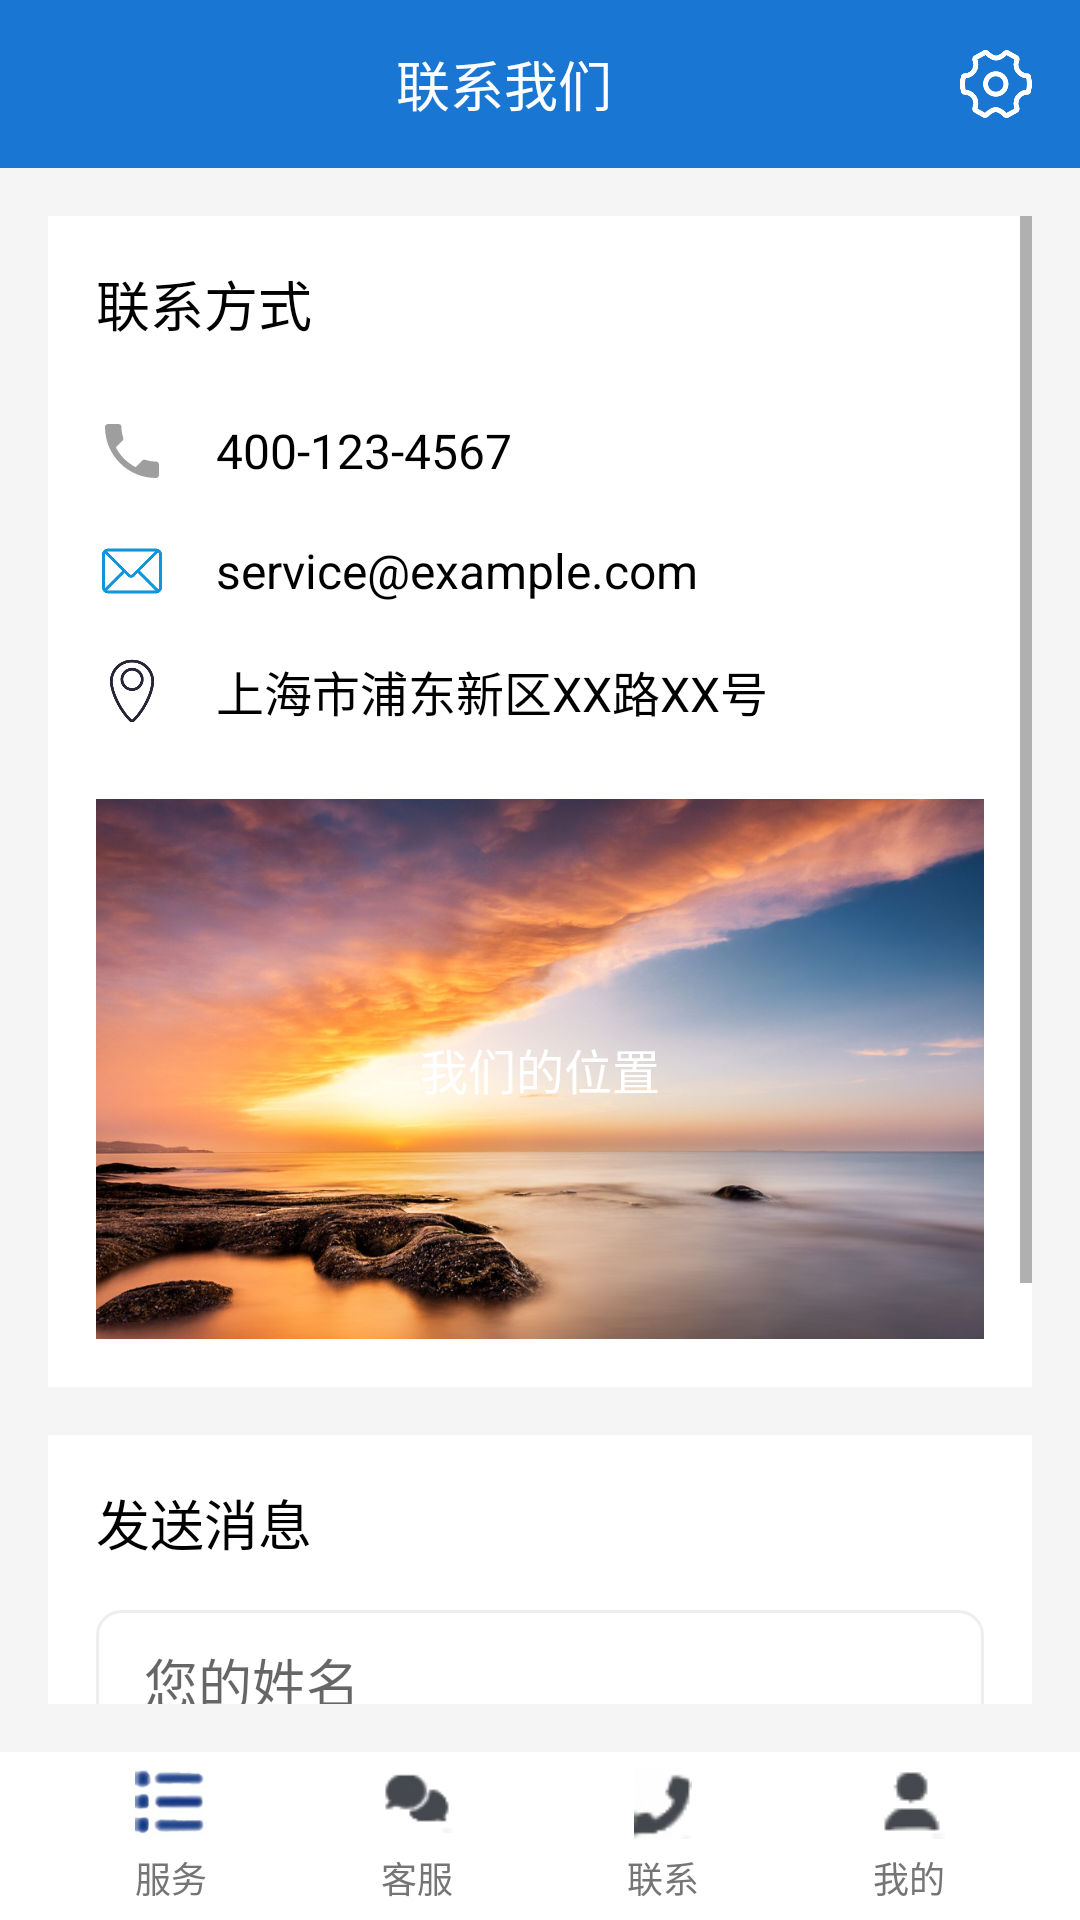

Named icons in this screenshot (1080*1920) and their centers, (x,y):
电话: (132,451)
